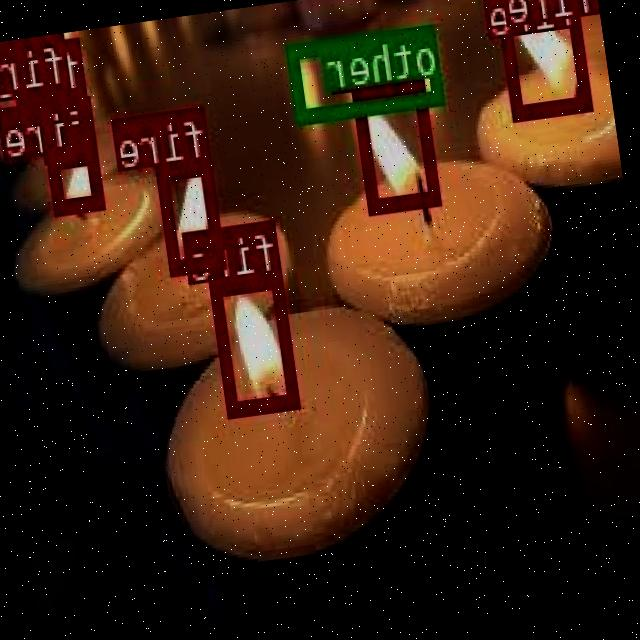fire: (212, 269, 302, 415), (498, 0, 595, 116), (356, 80, 442, 210), (158, 156, 228, 272), (10, 33, 76, 106), (40, 88, 97, 158), (50, 145, 108, 211), (563, 0, 599, 11)
